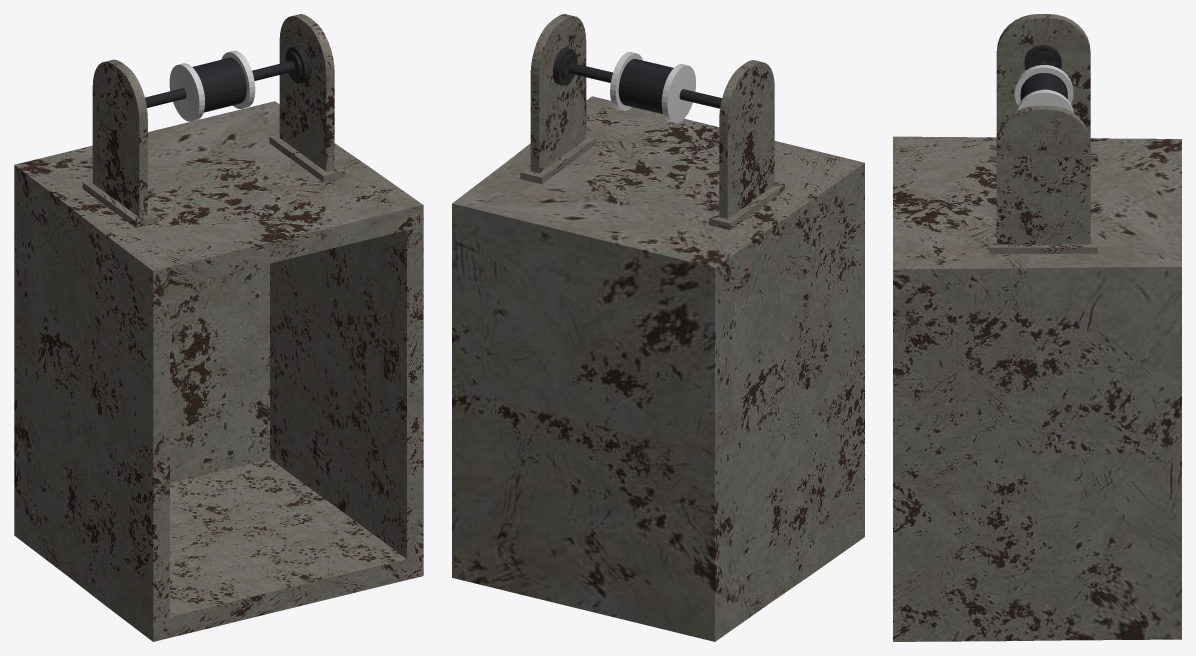
File: elevator_textured.fbx
3 renders of one model, left to right at view 1: azimuth 30°, elevation 25°; view 2: azimuth 150°, elevation 25°; view 3: azimuth 270°, elevation 25°, orthographic.
Visible parts, largest first — view 1: Elevator, Stabiliser1, Stabiliser2, RopeGear2; view 2: Elevator, Stabiliser1, Stabiliser2, RopeGear2; view 3: Elevator, Stabiliser2, Stabiliser1, RopeGear2.
Boxes of the visible parts, bbox=[...] form: Elevator: bbox=[14, 101, 423, 641]; Stabiliser1: bbox=[82, 59, 157, 228]; Stabiliser2: bbox=[269, 14, 344, 182]; RopeGear2: bbox=[145, 46, 310, 121]; Elevator: bbox=[452, 96, 864, 641]; Stabiliser1: bbox=[709, 60, 784, 230]; Stabiliser2: bbox=[520, 14, 596, 184]; RopeGear2: bbox=[553, 48, 721, 122]; Elevator: bbox=[893, 136, 1181, 641]; Stabiliser2: bbox=[989, 105, 1097, 253]; Stabiliser1: bbox=[989, 14, 1097, 162]; RopeGear2: bbox=[1014, 45, 1073, 112].
Size of the model in its own units: 1193 by 2156 by 1098.
